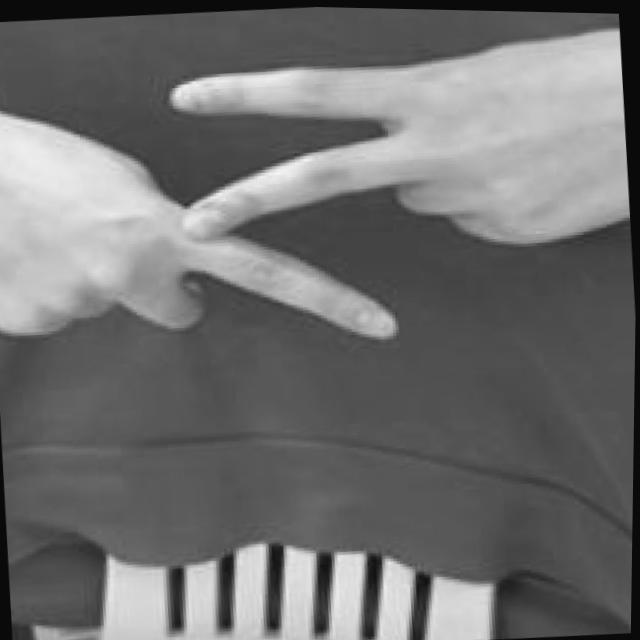Z: (0, 11, 640, 383)
